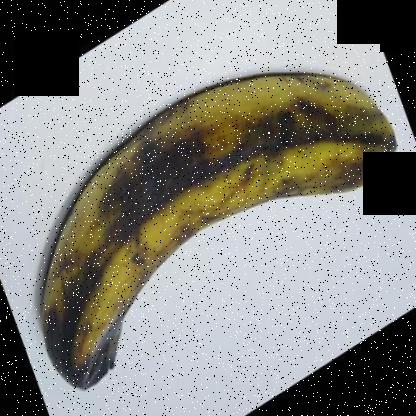overripe: (36, 50, 404, 409)
